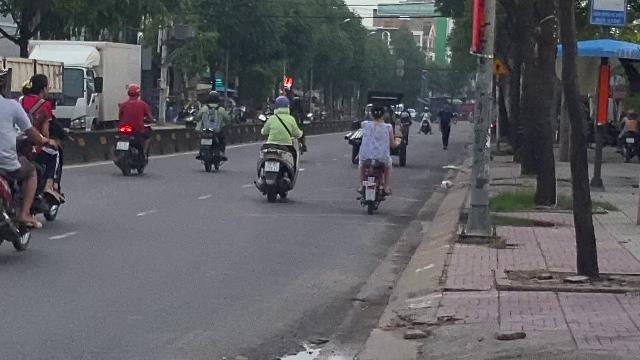helmet: (274, 96, 290, 112), (124, 84, 140, 98)
licenseplate: (264, 161, 278, 171), (116, 141, 128, 149)
motorcyclist: (252, 94, 302, 202), (354, 102, 398, 218), (113, 83, 153, 175)
nohelmet: (27, 73, 49, 97), (370, 104, 384, 120)
